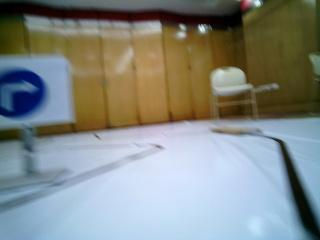right: (0, 58, 66, 117)
